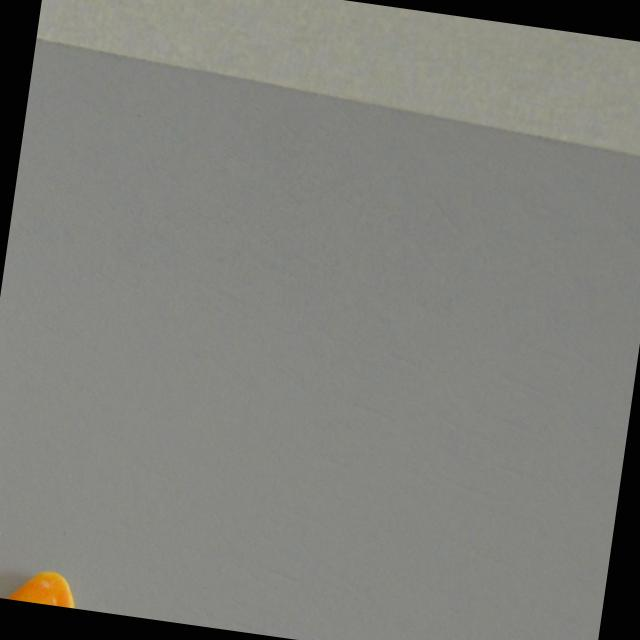dañado: (0, 554, 100, 611)
